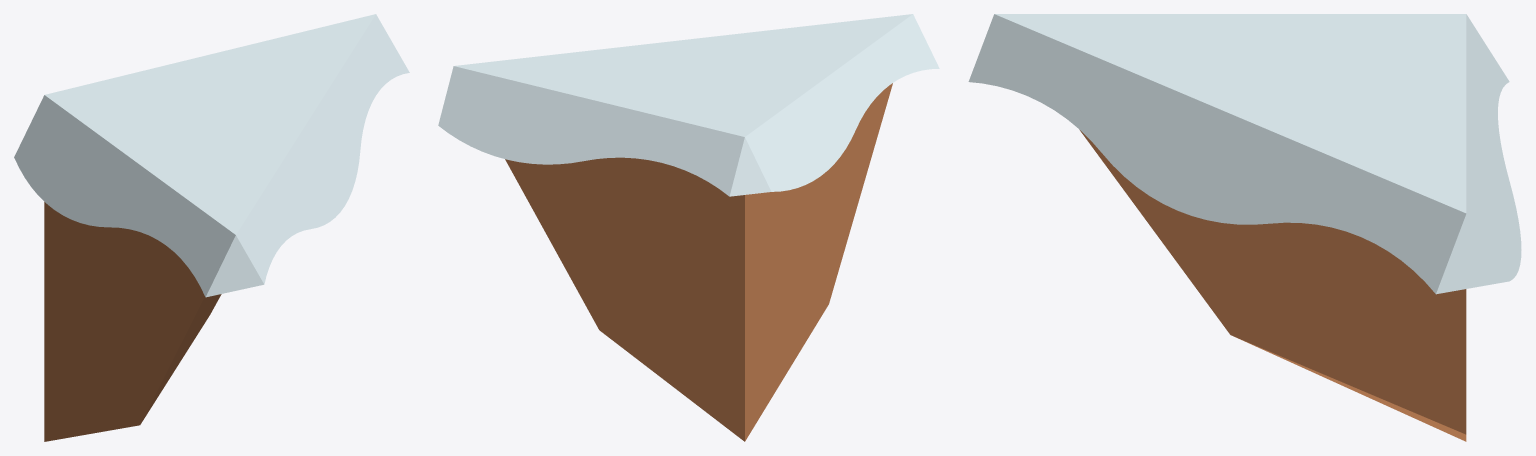
Rendered from blockSnowCliffCorner.dae.
3 renders of one model, left to right at view 1: azimuth 30°, elevation 25°; view 2: azimuth 150°, elevation 25°; view 3: azimuth 270°, elevation 25°, orthographic. The views are drawn at different scales.
Visible parts, largest first — view 1: blockSnowCliffCorner; view 2: blockSnowCliffCorner; view 3: blockSnowCliffCorner.
Boxes of the visible parts, bbox=[...] form: blockSnowCliffCorner: bbox=[14, 14, 409, 441]; blockSnowCliffCorner: bbox=[438, 14, 939, 441]; blockSnowCliffCorner: bbox=[968, 14, 1521, 441].
Size of the model in its own units: 1.18 by 1 by 1.17.
